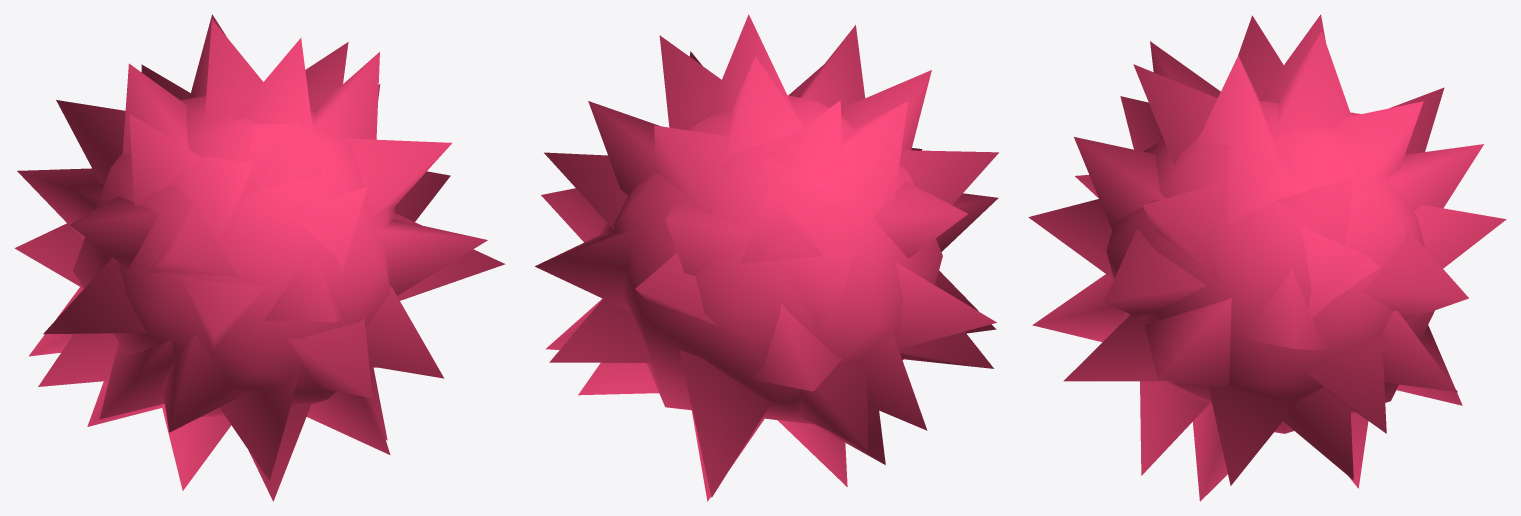
The model's file is Bullet_Dirty.fbx.
3 renders of one model, left to right at view 1: azimuth 30°, elevation 25°; view 2: azimuth 150°, elevation 25°; view 3: azimuth 270°, elevation 25°, orthographic.
Parts seen in each view (by area): view 1: 円錐.010; view 2: 円錐.010; view 3: 円錐.010.
Part boxes in pixels (x1,y1,x2,y2): 円錐.010: [14, 14, 505, 501]; 円錐.010: [535, 14, 998, 501]; 円錐.010: [1028, 14, 1506, 501].
Size of the model in its own units: 0.9689 by 0.9376 by 0.9184.
1 material, 1 textured.
